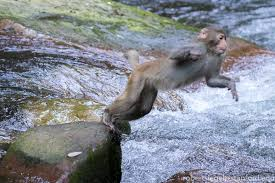monkey: (91, 25, 256, 132)
